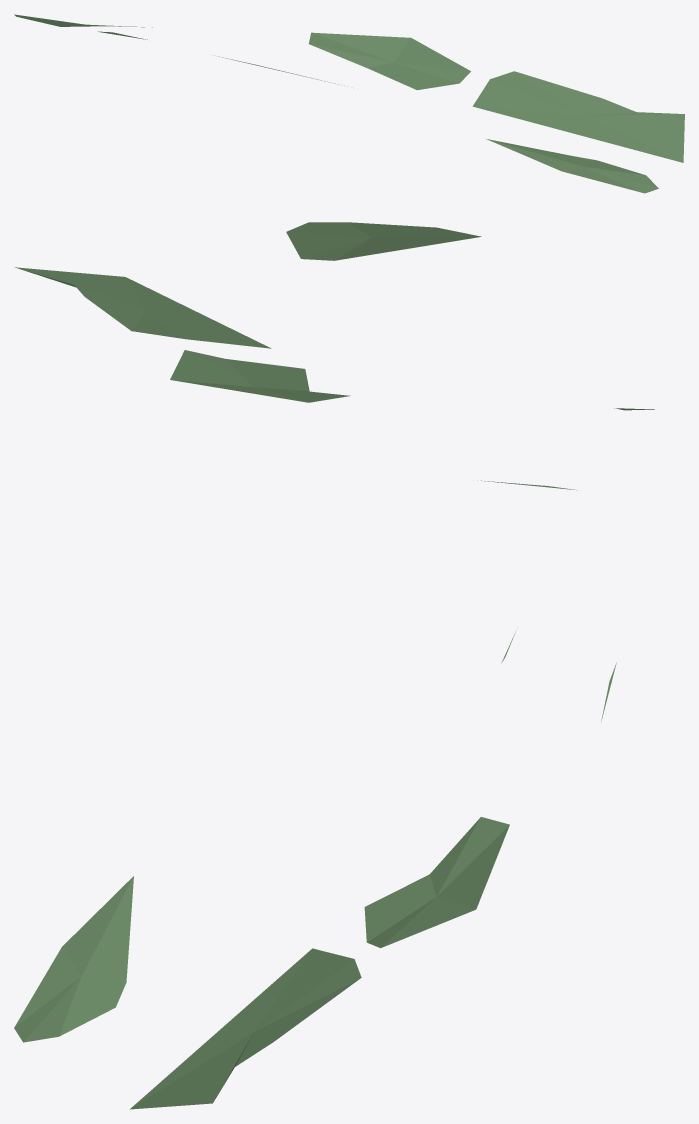
The model's file is c_1670_17818_forest.glb.
The picture shows the model from 3 angles, top to bottom: view 1: azimuth 30°, elevation 25°; view 2: azimuth 150°, elevation 25°; view 3: azimuth 270°, elevation 25°; orthographic projection. The views are drawn at different scales.
Parts seen in each view (by area): view 1: geometry_0; view 2: geometry_0; view 3: geometry_0.
Boxes of the visible parts, x1=… form: geometry_0: x1=14, y1=14, x2=684, y2=193; geometry_0: x1=15, y1=222, x2=654, y2=490; geometry_0: x1=14, y1=630, x2=616, y2=1109.
Size of the model in its own units: 267 by 66.19 by 214.
